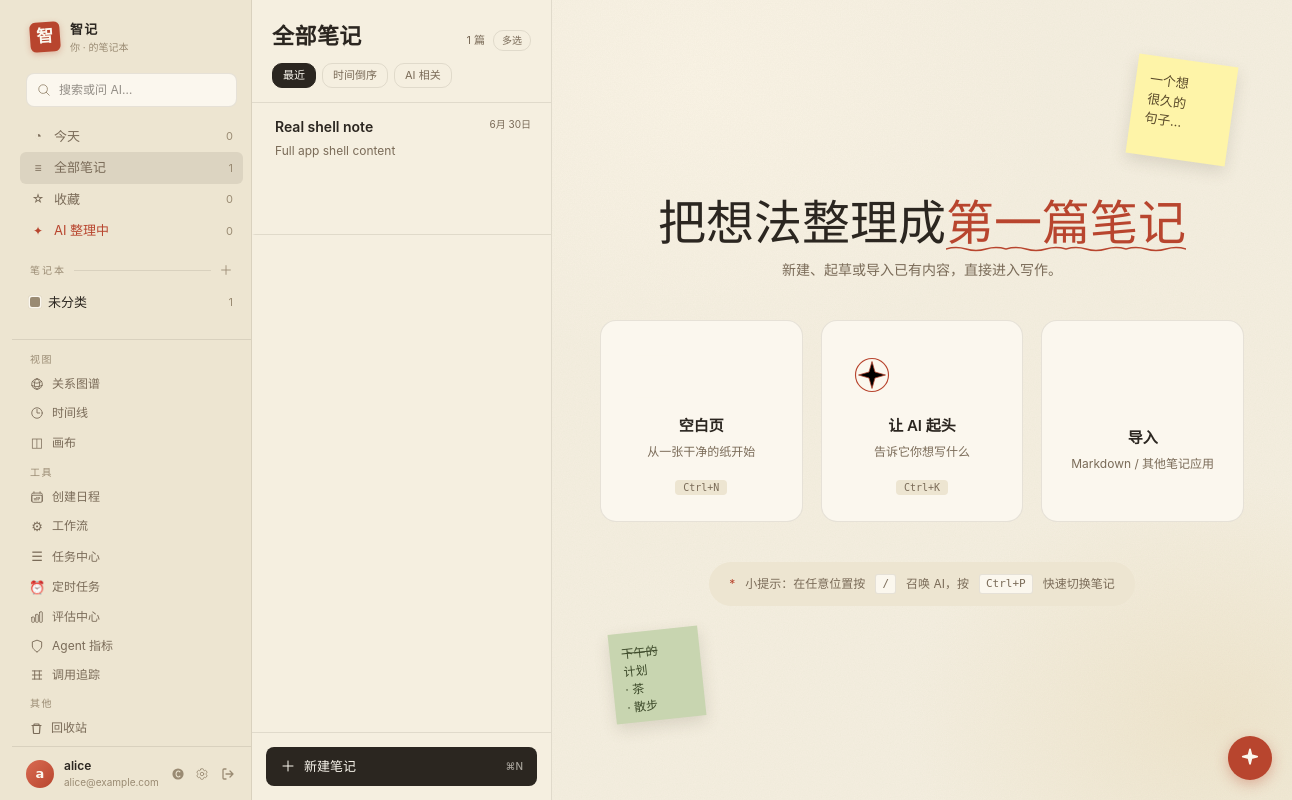
Test case: App shell real behavior › creates a note through the real empty-state create flow
This screenshot has width=1292, height=800.
Click the button with aria-label "Create blank note". click: (701, 421)
box: [600,320,803,522]
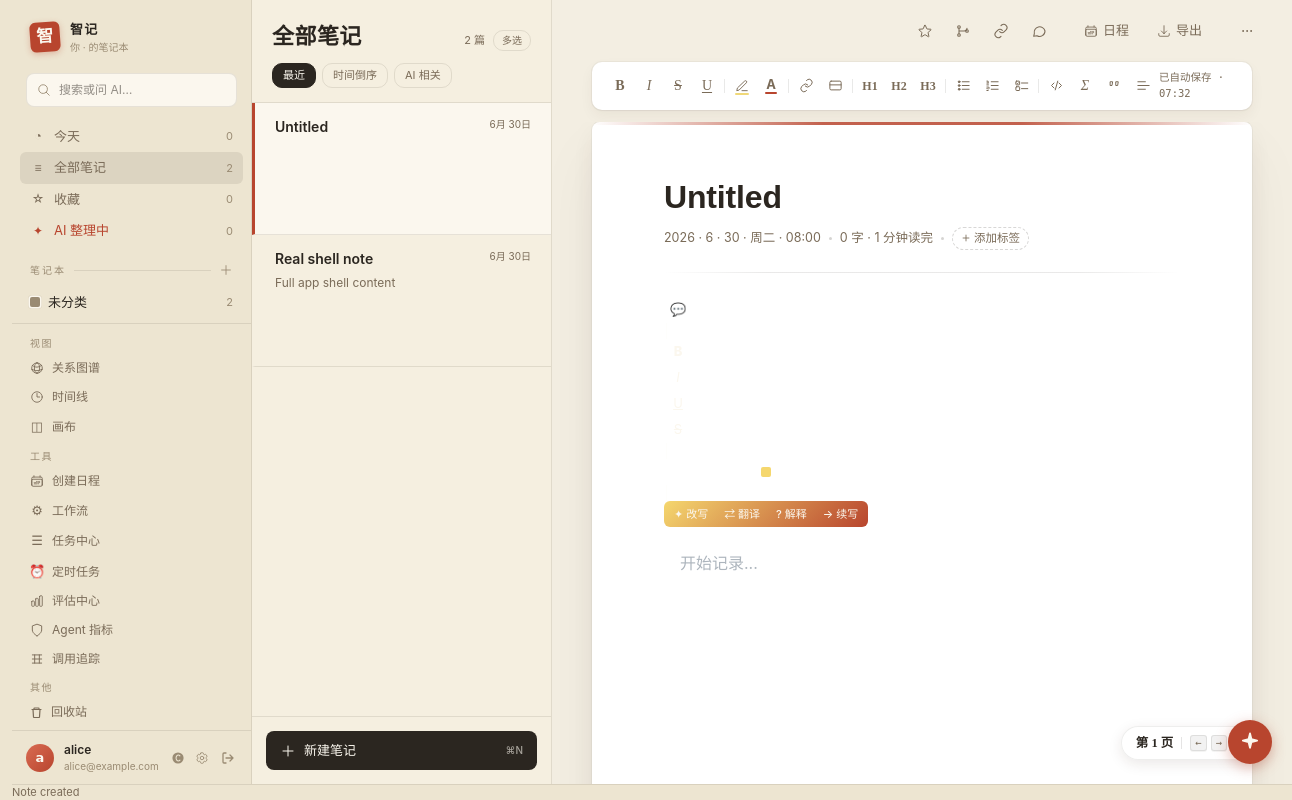
Check: the text "Note created" is shown, box [12,784,1291,799]
